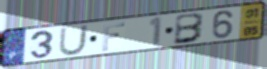1: (147, 16, 164, 49)
3: (27, 29, 57, 60)
6: (212, 9, 236, 40)
B: (172, 12, 208, 46)
F: (101, 21, 127, 52)
U: (57, 23, 90, 57)
